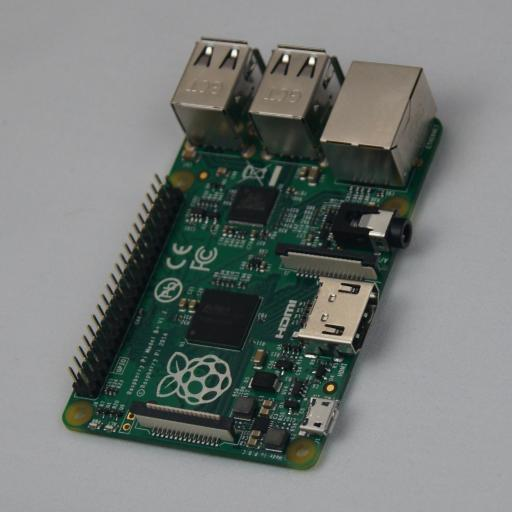Raspberry Pi 1 B-: (62, 38, 447, 470)
